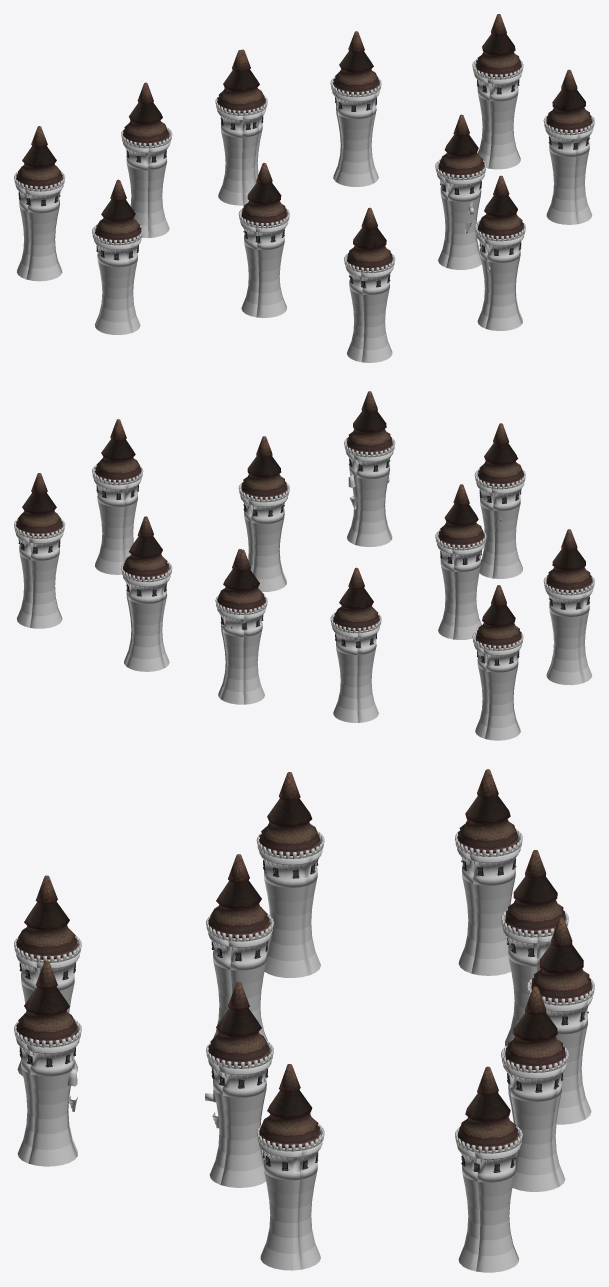
Rendered from CH_Castle_Towers.FBX.
3 renders of one model, top to bottom at view 1: azimuth 30°, elevation 25°; view 2: azimuth 150°, elevation 25°; view 3: azimuth 270°, elevation 25°, orthographic. The views are drawn at different scales.
Visible parts, largest first — view 1: CH_Castle_Towers; view 2: CH_Castle_Towers; view 3: CH_Castle_Towers.
Boxes of the visible parts, x1,y1,x2,y2 form: CH_Castle_Towers: (14, 14, 594, 362); CH_Castle_Towers: (14, 391, 594, 740); CH_Castle_Towers: (14, 769, 594, 1272).
Bounding box in the file's own units: 5744 × 1585 × 4334.
